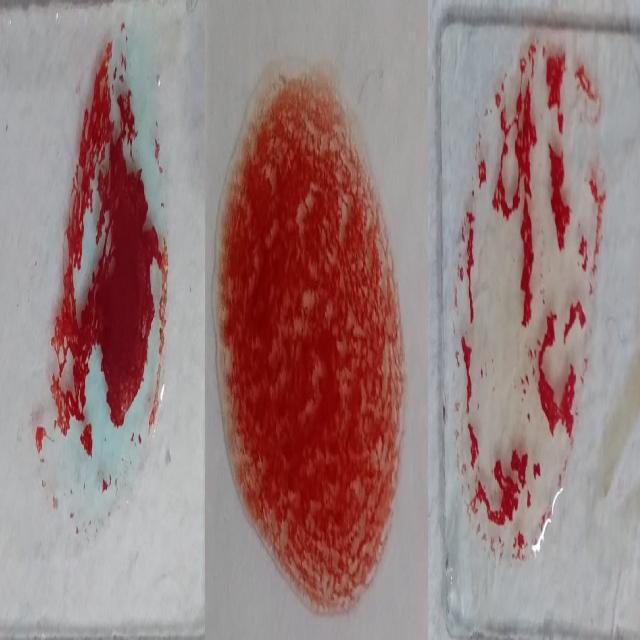A: (46, 15, 164, 539)
B: (217, 63, 399, 602)
D: (454, 28, 598, 563)
